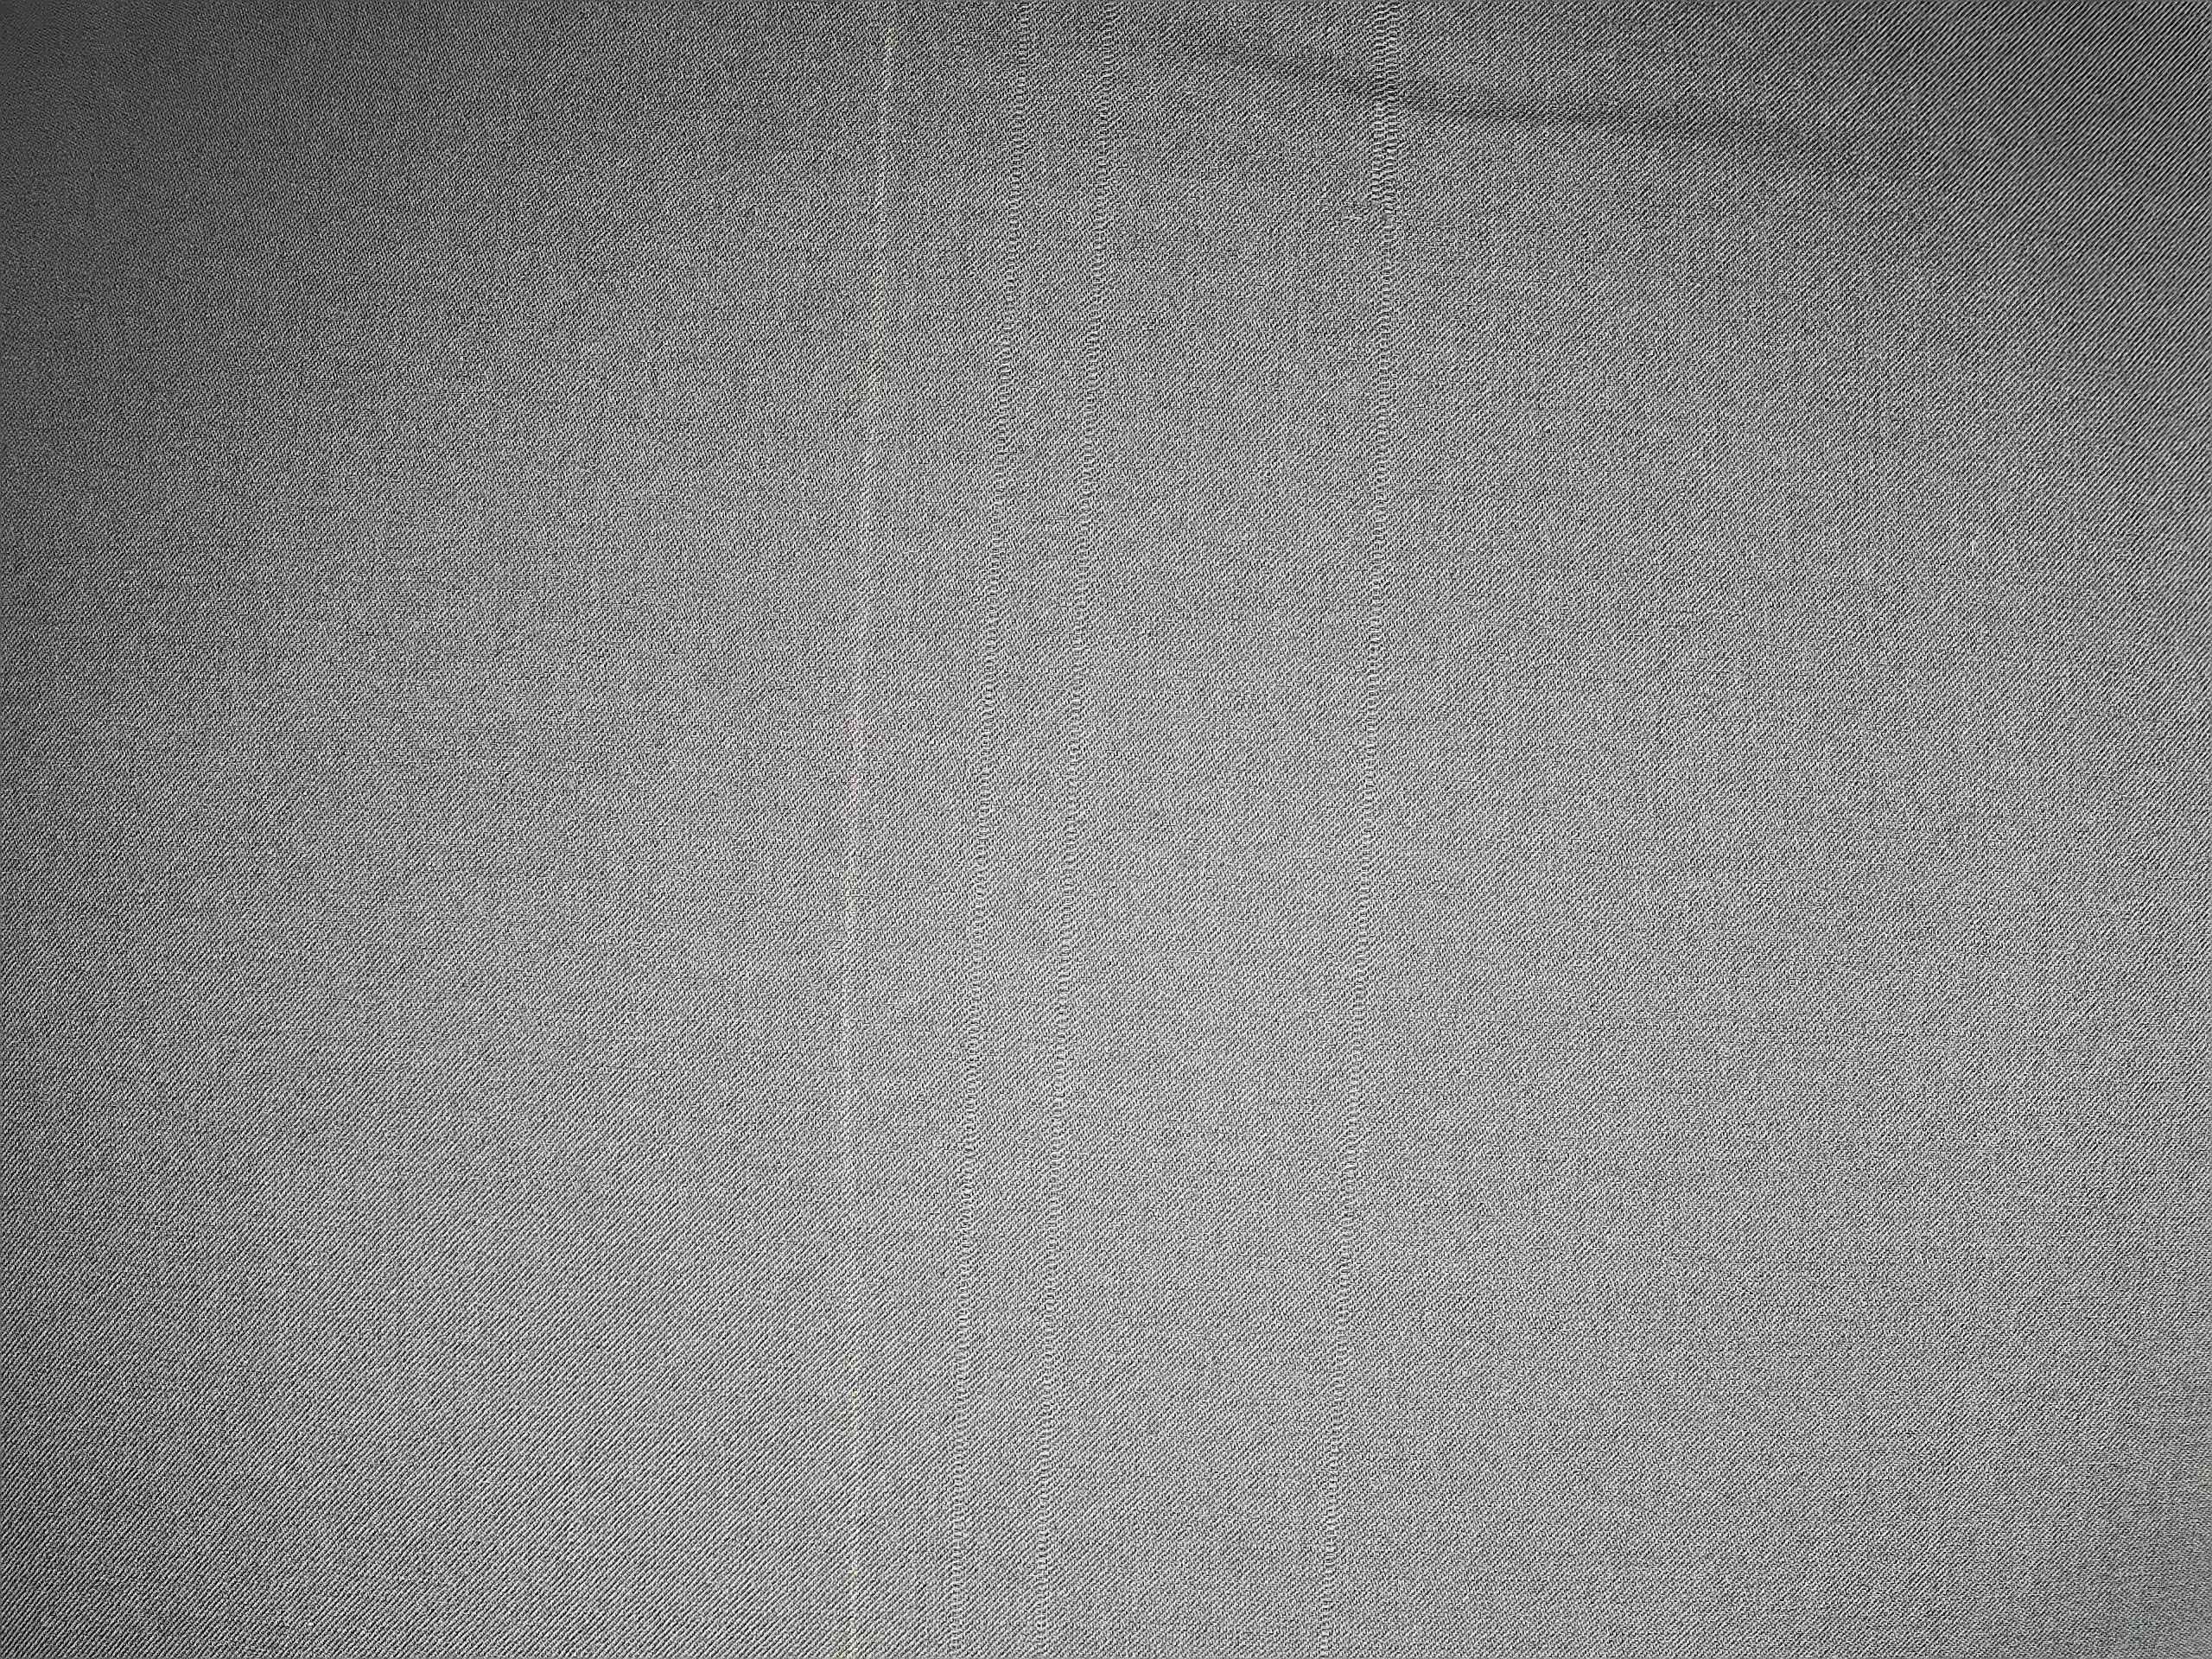lacking-warp: (949, 5, 1132, 1575), (1322, 12, 1406, 1596)
